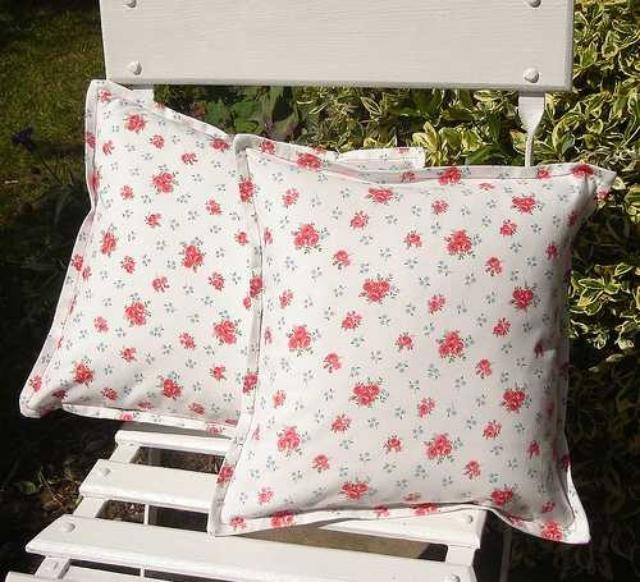pillow: (205, 142, 615, 546), (19, 78, 424, 436)
